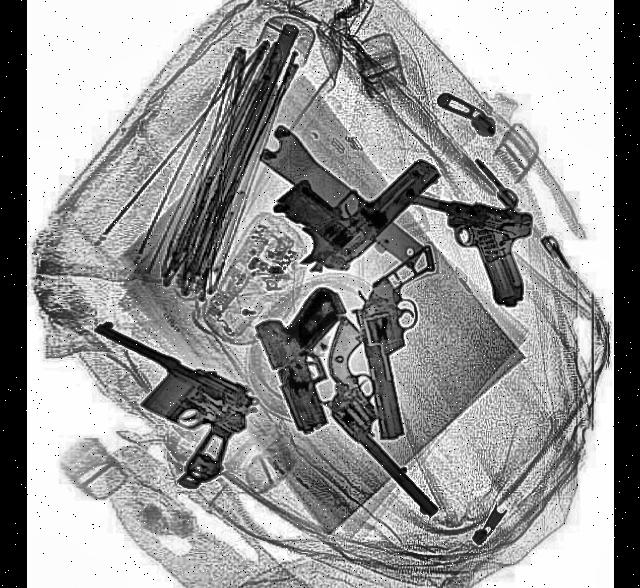Gun: (292, 314, 478, 524), (62, 316, 260, 508), (262, 93, 440, 297), (346, 246, 456, 446), (251, 282, 377, 446), (396, 196, 532, 310)
